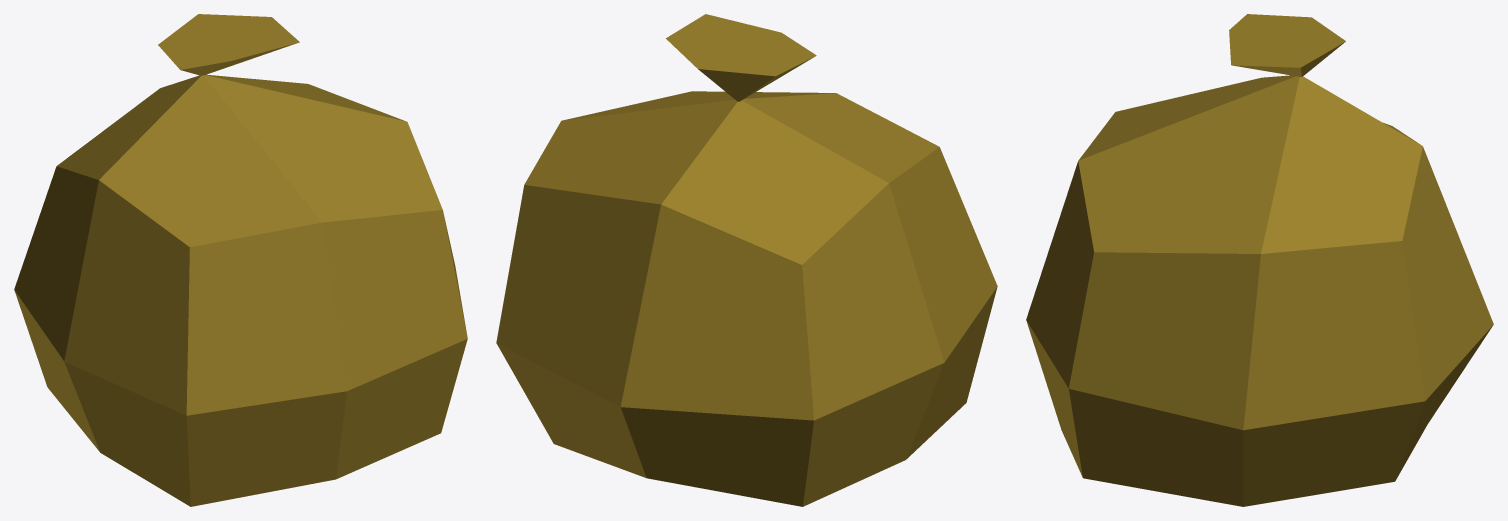
Rendered from ItemBag.fbx.
3 views of the same model, side by side, from view 1: azimuth 30°, elevation 25°; view 2: azimuth 150°, elevation 25°; view 3: azimuth 270°, elevation 25° (orthographic). The views are drawn at different scales.
Visible parts, largest first — view 1: Cube; view 2: Cube; view 3: Cube.
Part boxes in pixels (x1=…): Cube: x1=14, y1=14, x2=467, y2=506; Cube: x1=496, y1=14, x2=997, y2=506; Cube: x1=1026, y1=14, x2=1493, y2=506.
Size of the model in its own units: 160 by 146 by 157.
